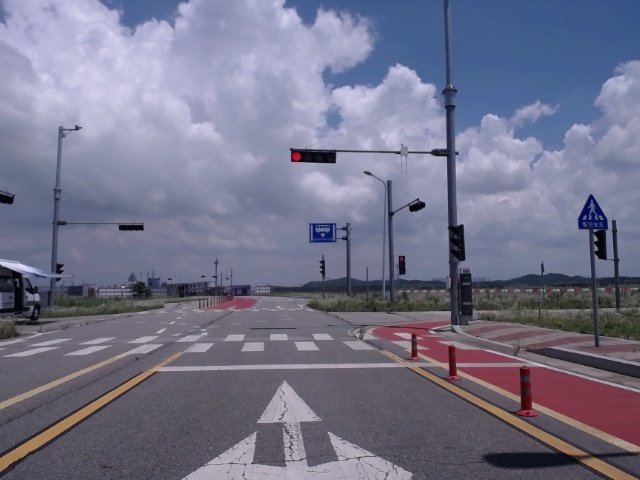red_4: (291, 150, 336, 163)
